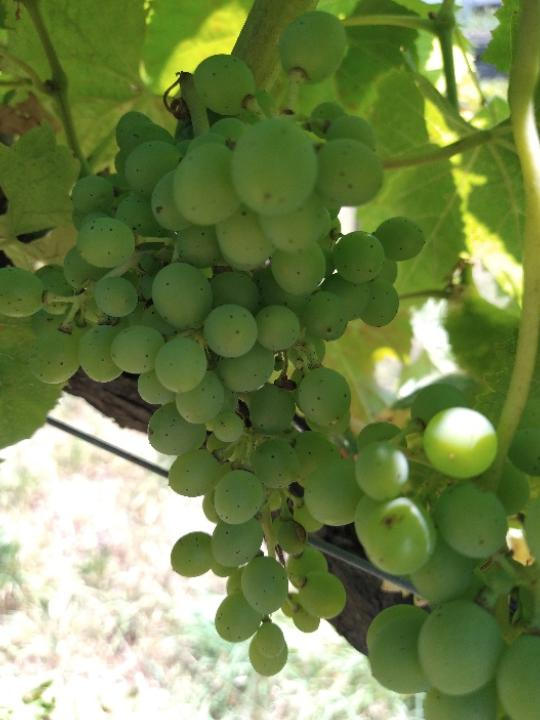grape: (0, 11, 427, 681)
